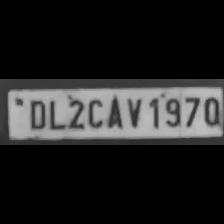0: (200, 94, 220, 126)
1: (144, 96, 160, 128)
2: (64, 96, 84, 130)
7: (182, 94, 198, 128)
9: (160, 96, 182, 128)
A: (104, 94, 124, 130)
C: (86, 96, 104, 128)
D: (26, 97, 46, 129)
L: (46, 96, 64, 130)
V: (124, 95, 142, 129)
